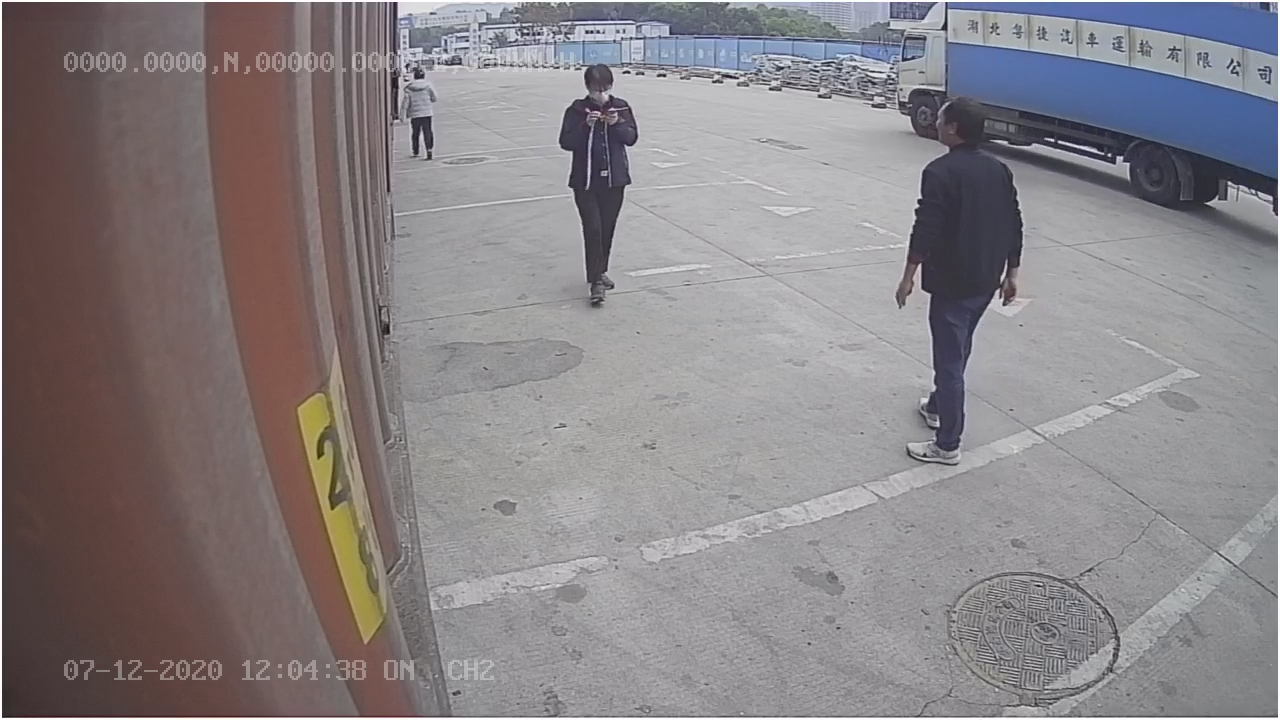person: (558, 63, 641, 306)
